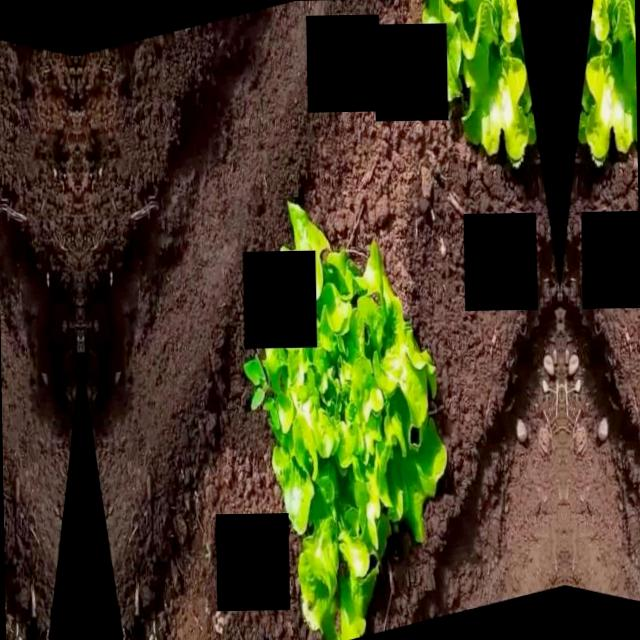healthy: (243, 192, 460, 635), (415, 0, 539, 175), (573, 0, 637, 172)
